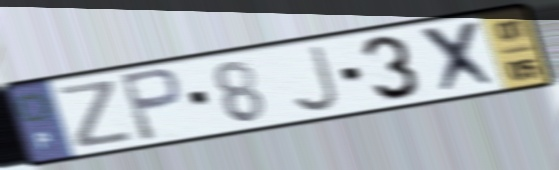3: (359, 31, 424, 103)
8: (212, 58, 268, 124)
J: (288, 42, 342, 115)
P: (116, 65, 186, 144)
X: (416, 16, 504, 98)
Z: (54, 76, 137, 151)
